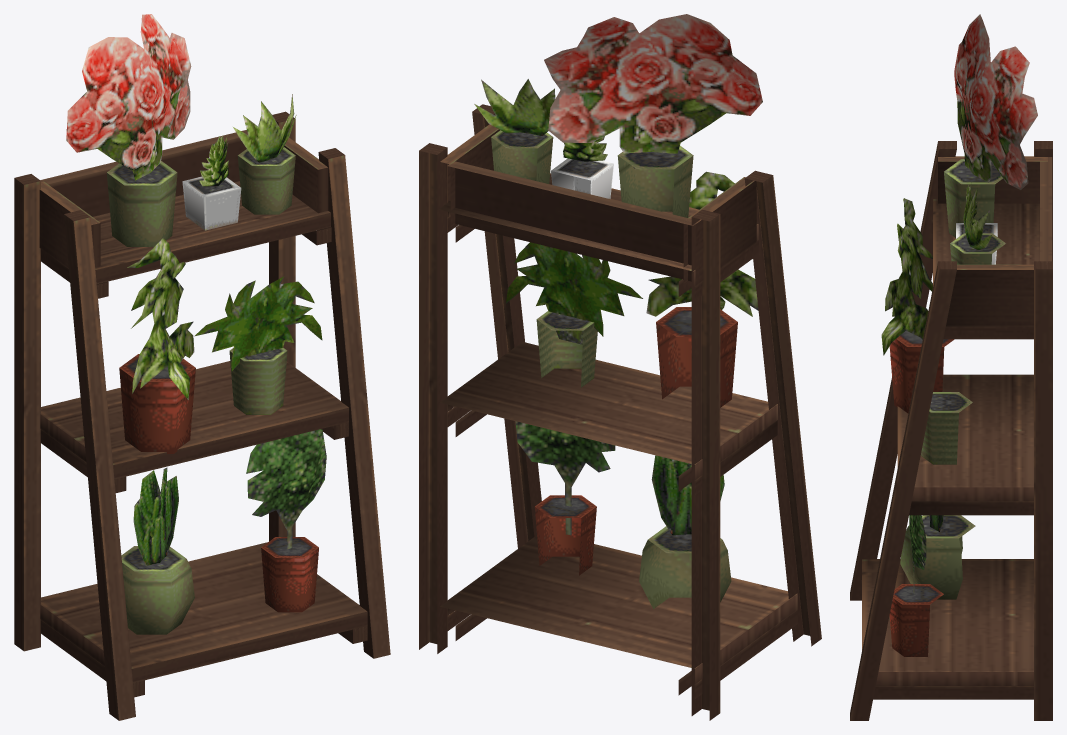
Rendered from hbxz_wj017_05.FBX.
3 renders of one model, left to right at view 1: azimuth 30°, elevation 25°; view 2: azimuth 150°, elevation 25°; view 3: azimuth 270°, elevation 25°, orthographic. The views are drawn at different scales.
Parts seen in each view (by area): view 1: hbxz_wj017_05; view 2: hbxz_wj017_05; view 3: hbxz_wj017_05.
Part boxes in pixels (x1,y1,x2,y2): hbxz_wj017_05: (14, 14, 390, 720); hbxz_wj017_05: (419, 14, 821, 720); hbxz_wj017_05: (850, 14, 1052, 720).
Bounding box in the file's own units: 73.56 × 160 × 49.18.
1 material, 1 textured.
